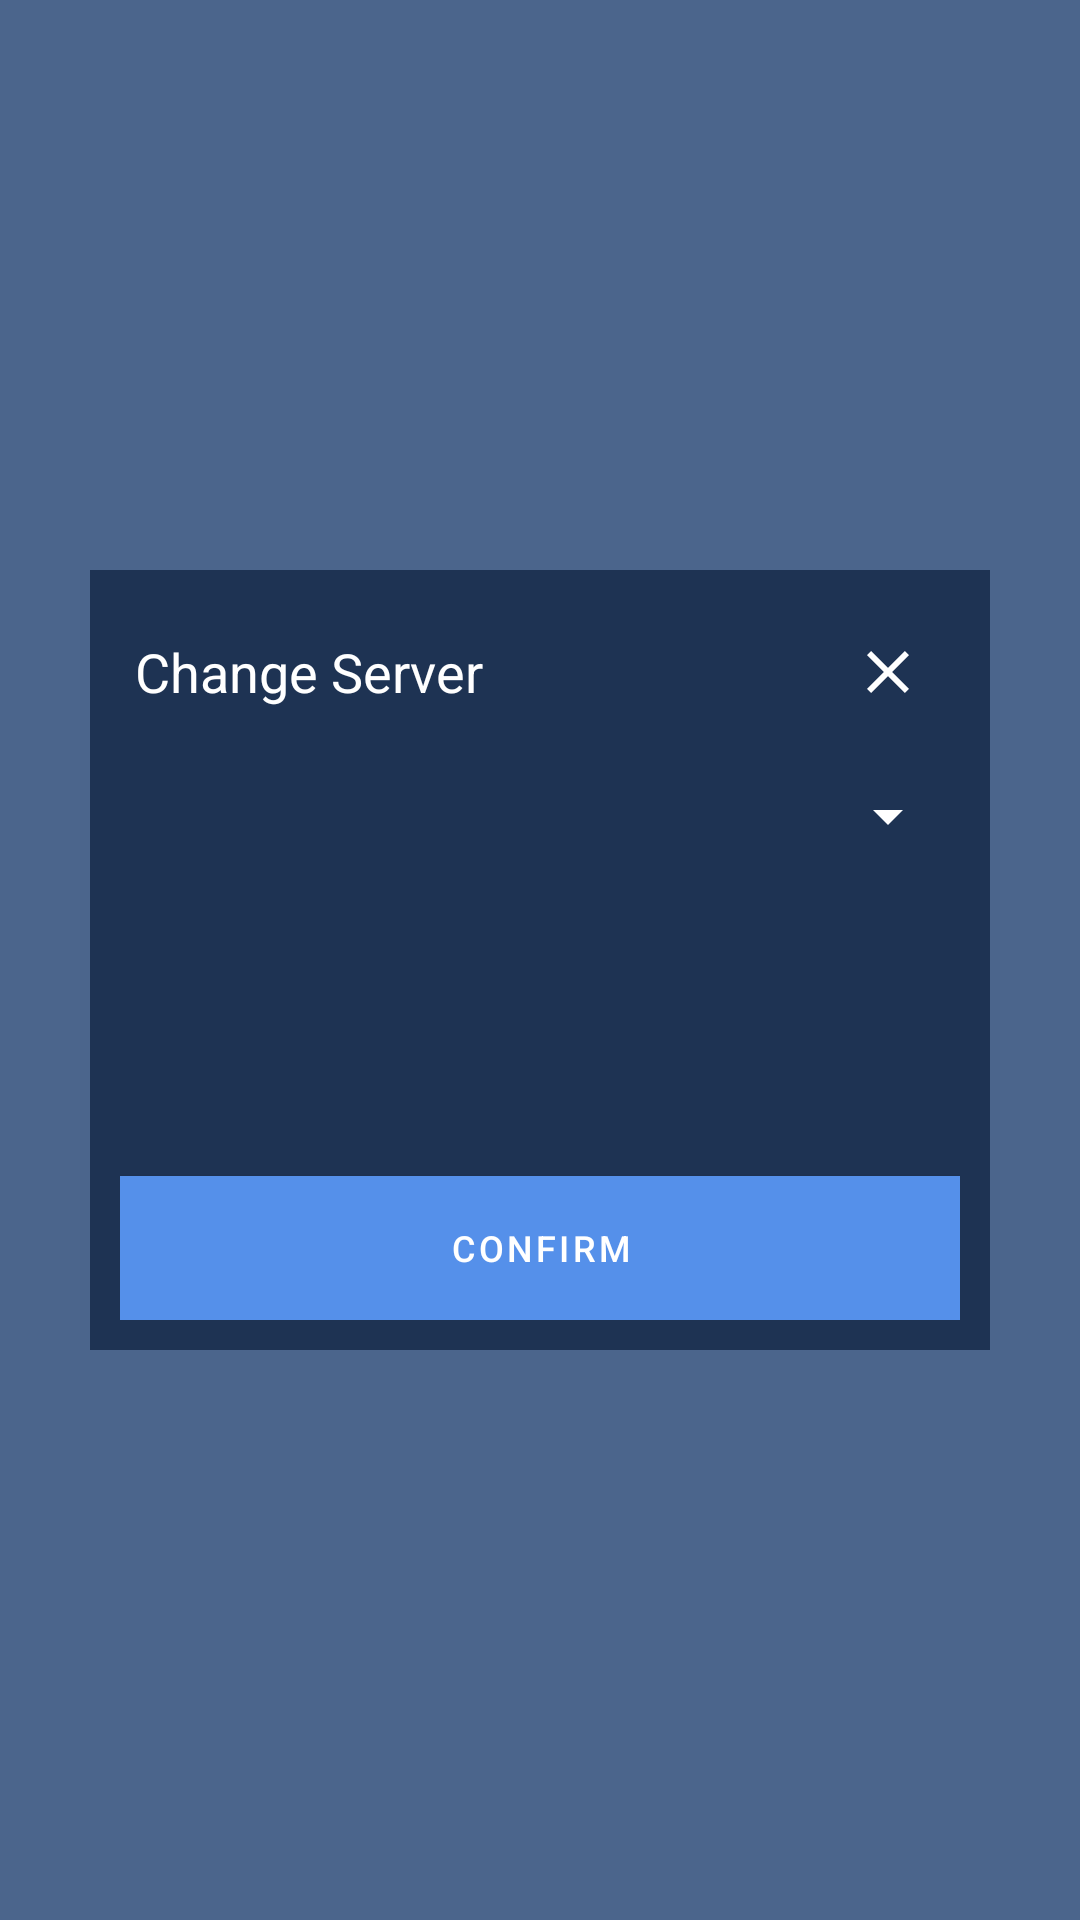

Where icons sit on this 1080×1920 app screen, as (x1, y1, x2, y2):
Close Popup: (867, 651, 909, 693)
